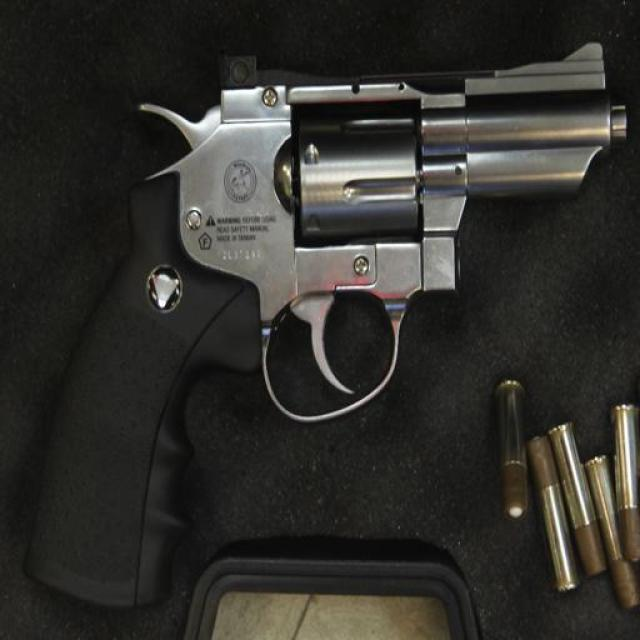pistol: (16, 42, 625, 606)
